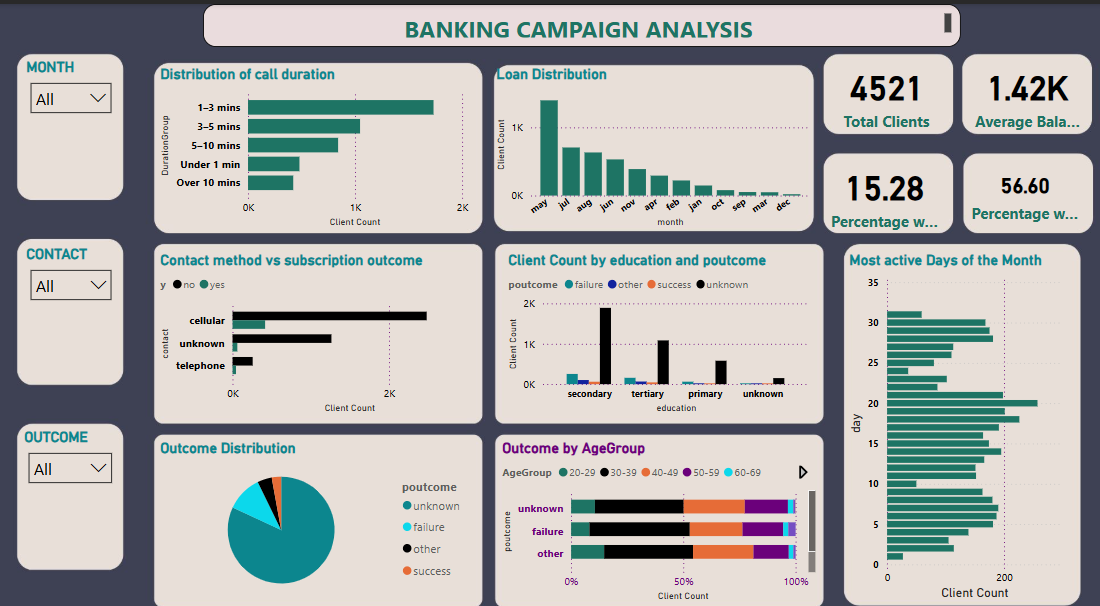

What the dashboard file says about the page in this screenshot:
{"tool":"powerbi","page":{"name":"campaign","canvas":[1280,720],"ordinal":1},"visuals":[{"type":"card","fields":{"Values":["Banking_Campaign.Total Clients"]},"box":[965.2,60.4,133.6,90.6],"z":0},{"type":"card","fields":{"Values":["Banking_Campaign.Average Balance"]},"box":[1129,60.4,133.6,90.6],"z":1000},{"type":"card","fields":{"Values":["Banking_Campaign.Percentage with Loans"]},"box":[960.6,171.9,138.2,99.9],"z":2000},{"type":"card","fields":{"Values":["Banking_Campaign.Percentage with Housing Loan"]},"box":[1123.2,178.9,139.4,84.8],"z":3000},{"type":"barChart","title":"Most active Days of the Month","fields":{"Y":["Banking_Campaign.Client Count"],"Category":["Banking_Campaign.day"]},"box":[983.8,286.9,268.3,411.2],"z":4000},{"type":"barChart","title":"Distribution of call duration","fields":{"Category":["Banking_Campaign.DurationGroup"],"Y":["Banking_Campaign.Client Count"]},"box":[182.4,70.9,374,192.8],"z":5000},{"type":"clusteredBarChart","title":"Contact method vs subscription outcome","fields":{"Category":["Banking_Campaign.contact"],"Y":["Banking_Campaign.Client Count"],"Series":["Banking_Campaign.y"]},"box":[182.4,286.9,374,192.8],"z":6000},{"type":"clusteredColumnChart","title":"Loan Distribution","fields":{"Category":["Banking_Campaign.month"],"Y":["Banking_Campaign.Client Count"]},"box":[572.6,70.9,374,192.8],"z":7000},{"type":"pieChart","title":"Outcome Distribution","fields":{"Category":["Banking_Campaign.poutcome"],"Y":["Banking_Campaign.Client Count"]},"box":[182.4,505.3,374,192.8],"z":8000},{"type":"clusteredColumnChart","fields":{"Category":["Banking_Campaign.education"],"Y":["Banking_Campaign.Client Count"],"Series":["Banking_Campaign.poutcome"]},"box":[586.6,286.9,360.1,192.8],"z":9000},{"type":"hundredPercentStackedBarChart","title":"Outcome by AgeGroup","fields":{"Category":["Banking_Campaign.poutcome"],"Series":["Banking_Campaign.AgeGroup"],"Y":["Banking_Campaign.Client Count"]},"box":[579.6,505.3,374,192.8],"z":10000},{"type":"slicer","title":"MONTH","fields":{"Values":["Banking_Campaign.month"]},"box":[26.7,62.7,113.8,159.1],"z":11000},{"type":"slicer","title":"CONTACT","fields":{"Values":["Banking_Campaign.contact"]},"box":[26.8,280,114.3,159.9],"z":12000},{"type":"slicer","title":"OUTCOME","fields":{"Values":["Banking_Campaign.poutcome"]},"box":[24.5,492.4,116.7,158.7],"z":13000},{"type":"textbox","box":[236.9,0,880.9,50.2],"z":14000}]}

Visuals, with their boxes in screenshot pixels (x1, y1, x2, y2), scaled from the page's 1280x720 canvas onto the 1100x606 screenshot:
card - Banking_Campaign.Total Clients: (x1=829, y1=51, x2=944, y2=127)
card - Banking_Campaign.Average Balance: (x1=970, y1=51, x2=1085, y2=127)
card - Banking_Campaign.Percentage with Loans: (x1=826, y1=145, x2=944, y2=229)
card - Banking_Campaign.Percentage with Housing Loan: (x1=965, y1=151, x2=1085, y2=222)
"Most active Days of the Month" barChart: (x1=845, y1=241, x2=1076, y2=588)
"Distribution of call duration" barChart: (x1=157, y1=60, x2=478, y2=222)
"Contact method vs subscription outcome" clusteredBarChart: (x1=157, y1=241, x2=478, y2=404)
"Loan Distribution" clusteredColumnChart: (x1=492, y1=60, x2=813, y2=222)
"Outcome Distribution" pieChart: (x1=157, y1=425, x2=478, y2=588)
clusteredColumnChart - Banking_Campaign.education x Banking_Campaign.Client Count: (x1=504, y1=241, x2=814, y2=404)
"Outcome by AgeGroup" hundredPercentStackedBarChart: (x1=498, y1=425, x2=820, y2=588)
"MONTH" slicer: (x1=23, y1=53, x2=121, y2=187)
"CONTACT" slicer: (x1=23, y1=236, x2=121, y2=370)
"OUTCOME" slicer: (x1=21, y1=414, x2=121, y2=548)
textbox: (x1=204, y1=0, x2=961, y2=42)
